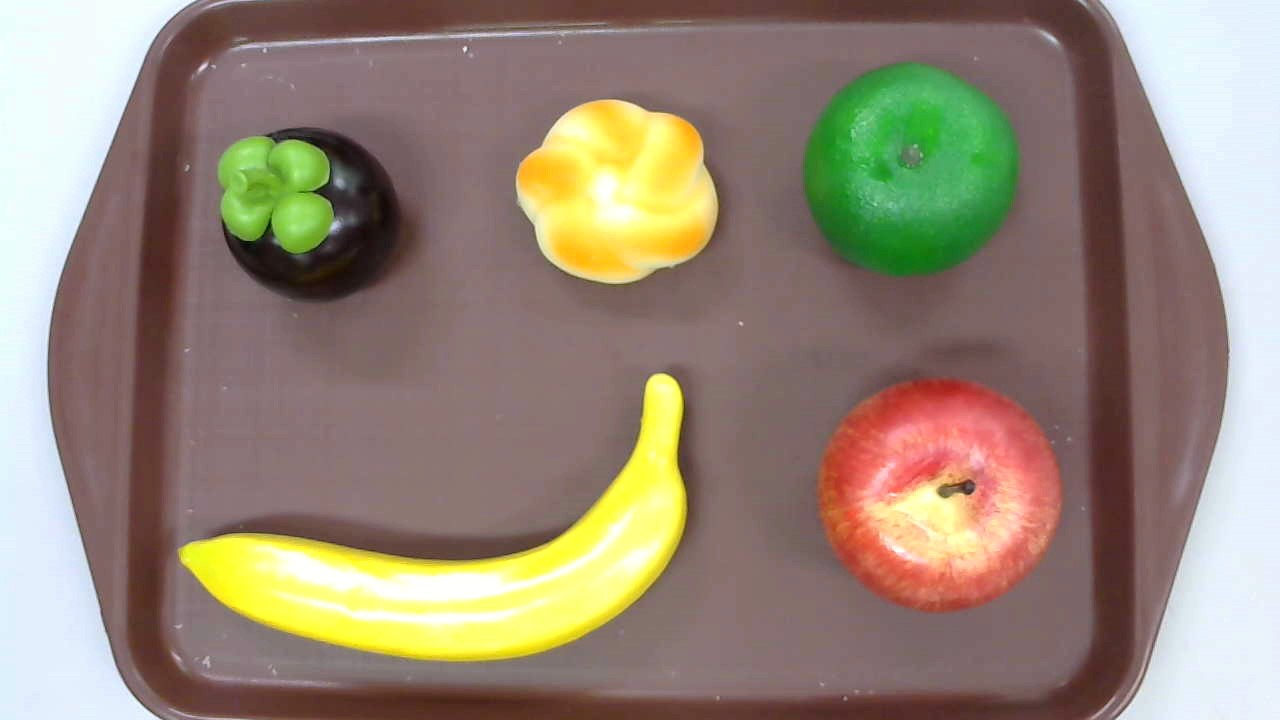banana: (175, 374, 686, 664)
green orange: (803, 62, 1021, 278)
mangosteen: (218, 127, 401, 304)
red apple: (817, 376, 1063, 614)
twist bread: (516, 100, 718, 285)
